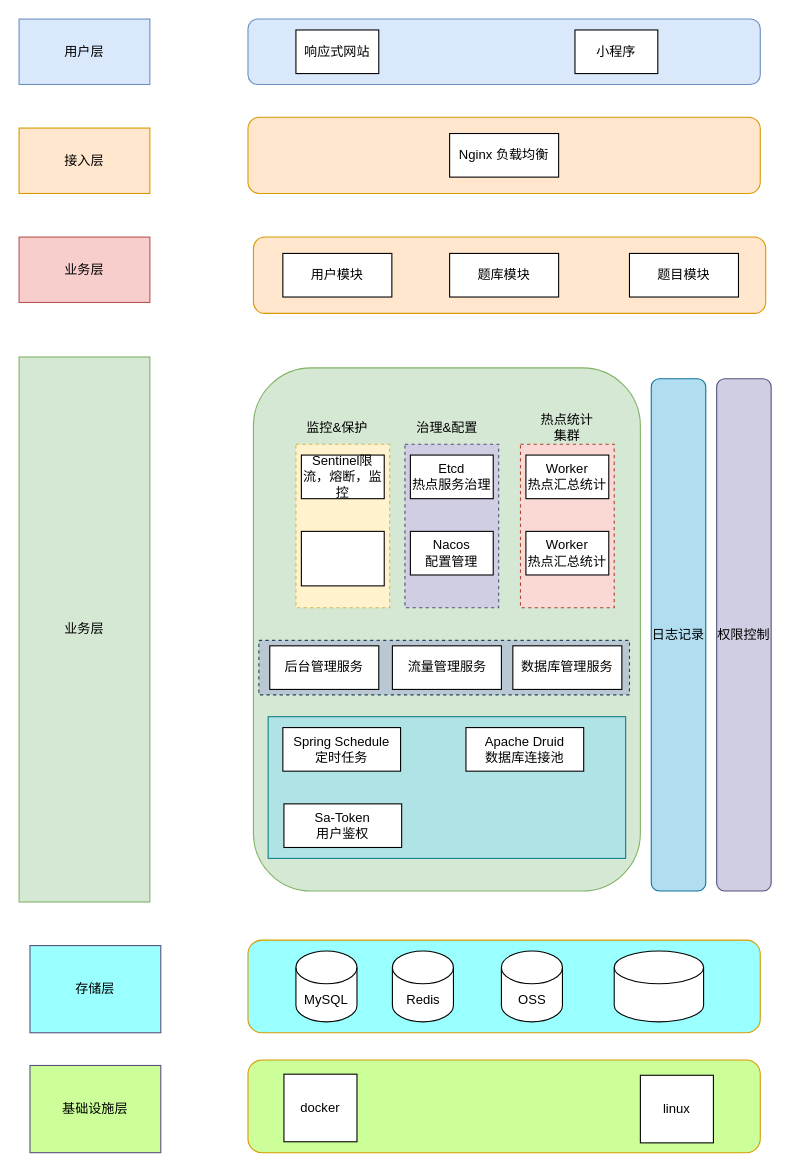
Image size: 790x1172. Some labels were removed from this diagram. The centre of each missing label's shape, as x and y in pixels:
"ElasticSearch" goes at pixel 658 986.
"HotKey 自动热点监测" goes at pixel 342 558.
